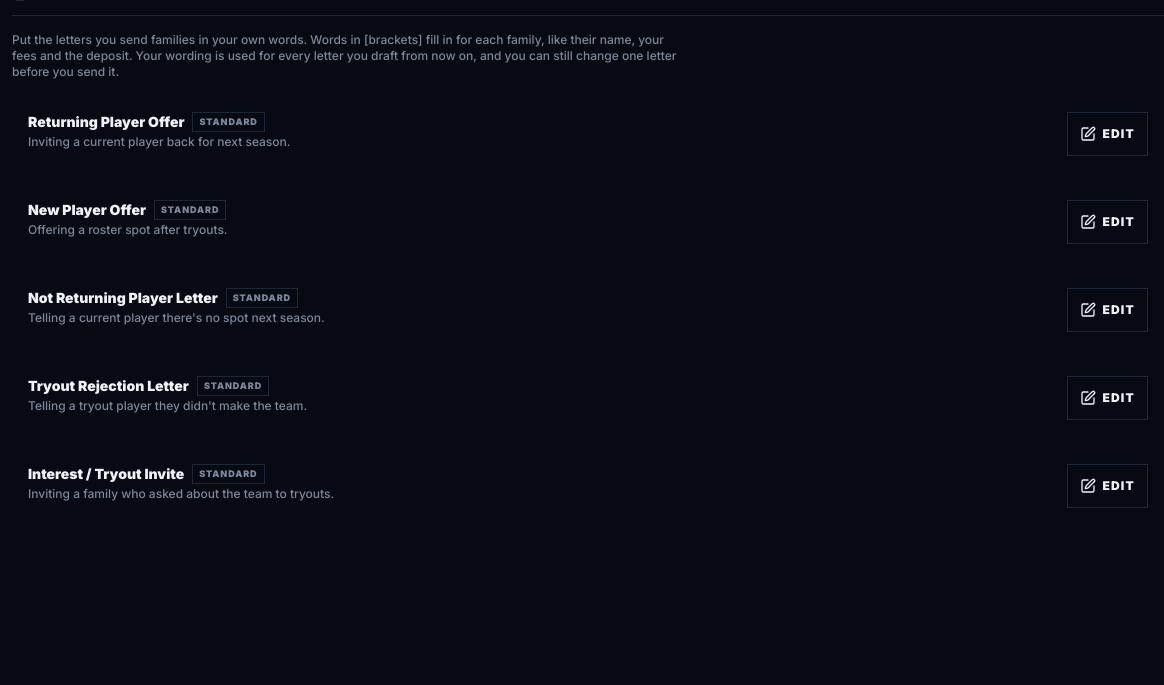
LetterTemplatesPanel › adds a fill-in field where the cursor is
Click the button "Edit" in the row of "Tryout Rejection Letter": [1108, 398] box left=1067, top=376, right=1148, bottom=420
(page scrolled)
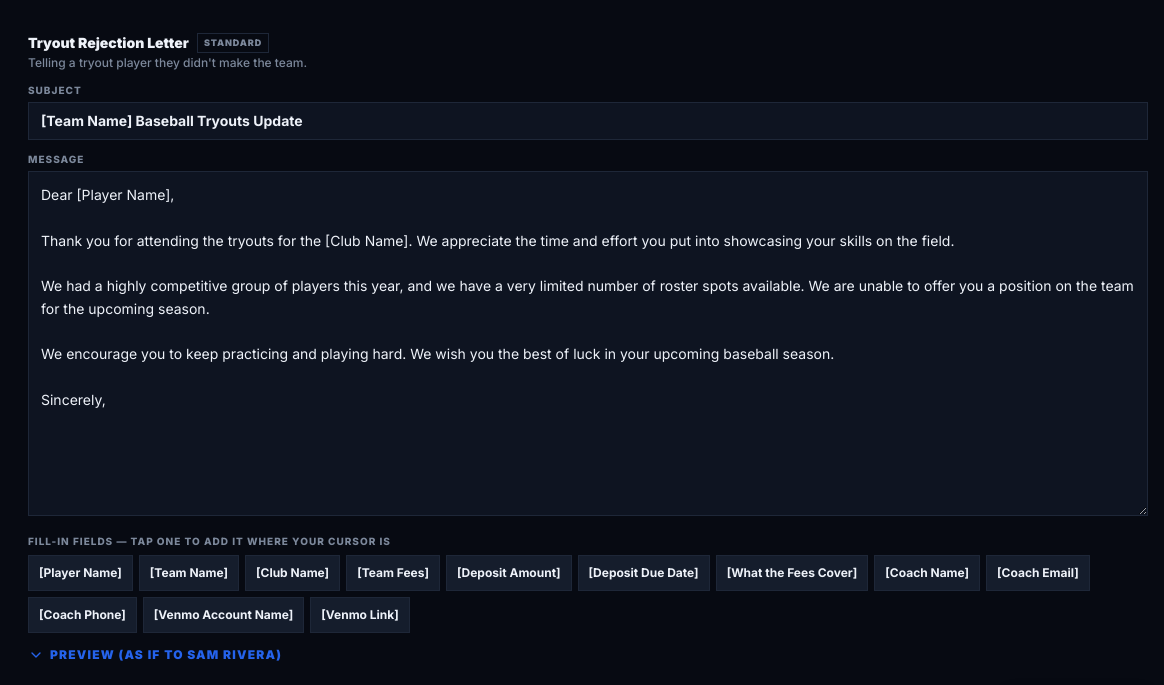
Replace the text in the text box labelled "Message" with "Dear , thanks.": [588, 343] box left=28, top=171, right=1148, bottom=516
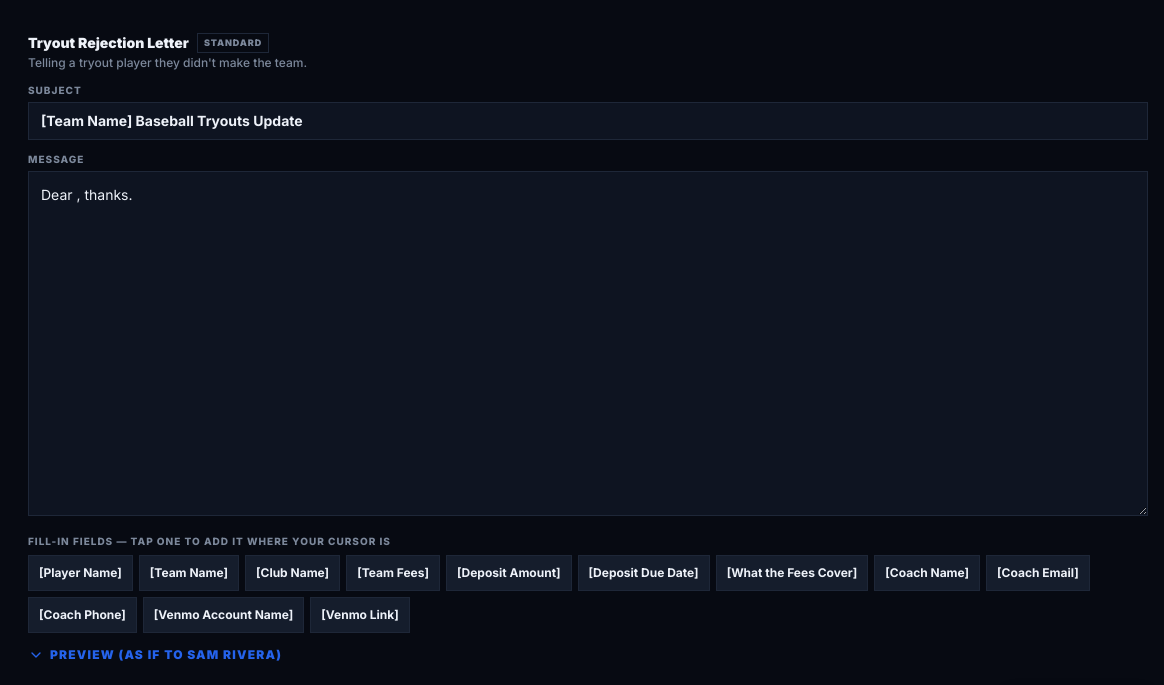
Click the button "[Player Name]": [80, 572] box left=28, top=554, right=133, bottom=590
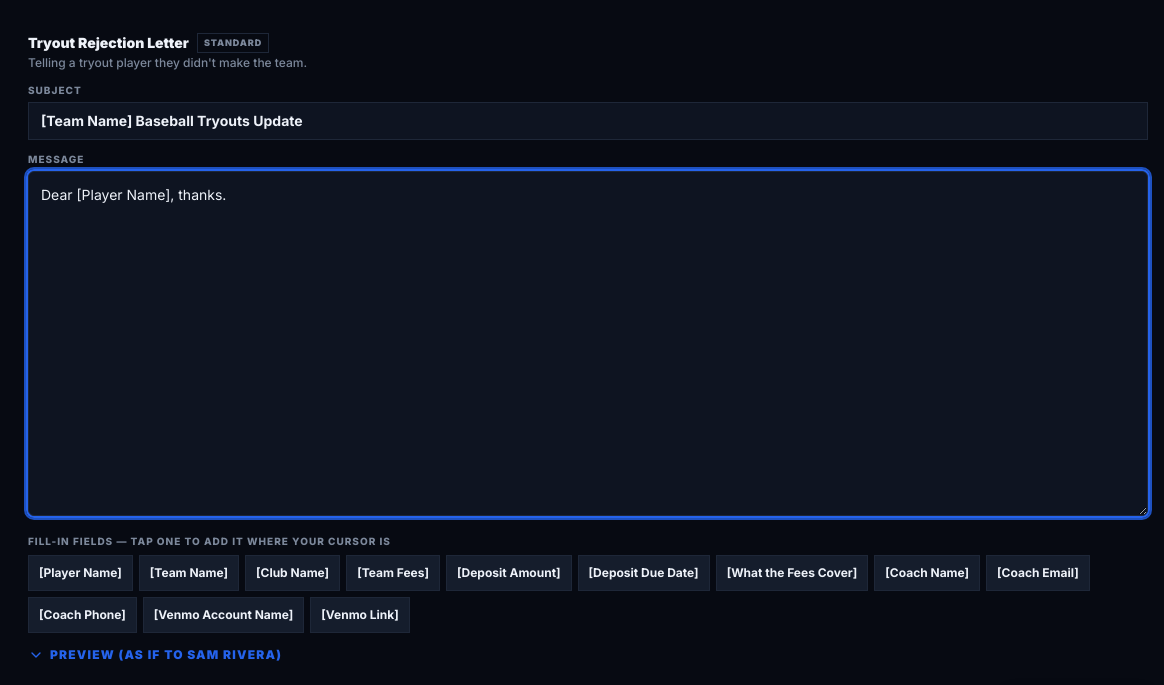
Check: the text box labelled "Message" holds "Dear [Player Name], thanks.", box left=28, top=171, right=1148, bottom=516
